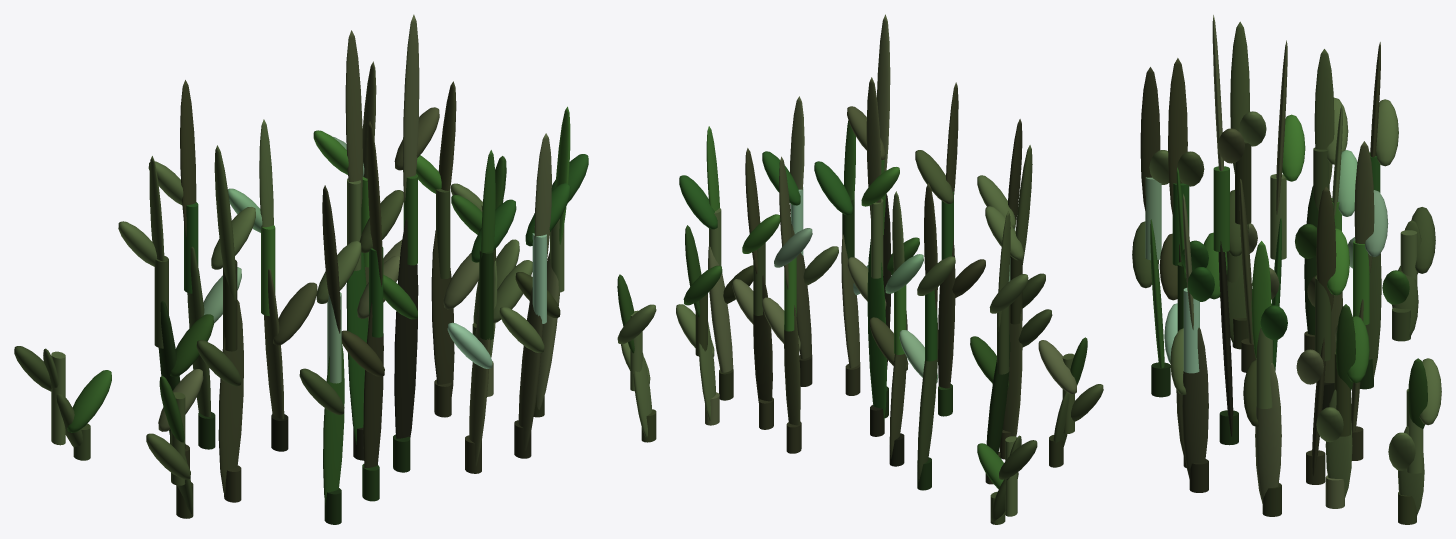
Rendered from CMU3DRMCBushi4.glb.
3 views of the same model, side by side, from view 1: azimuth 30°, elevation 25°; view 2: azimuth 150°, elevation 25°; view 3: azimuth 270°, elevation 25° (orthographic). The views are drawn at different scales.
Parts seen in each view (by area): view 1: reed 9 lower blade, reed 3 lower blade, reed 12 lower blade, reed 9 tapered tip, reed 8 tapered tip, reed 8 lower blade, reed 7 lower blade, reed 5 lower blade, reed 13 lower blade, reed 3 tapered tip, reed 6 lower blade, reed 4 tapered tip (+55 smaller); view 2: reed 8 lower blade, reed 7 lower blade, reed 15 lower blade, reed 12 lower blade, reed 4 lower blade, reed 3 lower blade, reed 11 lower blade, reed 10 lower blade, reed 9 tapered tip, reed 8 tapered tip, reed 2 lower blade, reed 13 lower blade (+56 smaller); view 3: reed 13 lower blade, reed 15 lower blade, reed 7 tapered tip, reed 5 tapered tip, reed 10 tapered tip, reed 2 tapered tip, reed 3 tapered tip, reed 12 tapered tip, reed 15 tapered tip, reed 9 slender blade rib, reed 9 lower blade, reed 4 lower blade (+72 smaller).
Boxes of the visible parts, bbox=[...] form: reed 9 lower blade: bbox=[394, 218, 418, 438]; reed 3 lower blade: bbox=[218, 300, 243, 493]; reed 12 lower blade: bbox=[431, 229, 454, 396]; reed 9 tapered tip: bbox=[403, 14, 419, 204]; reed 8 tapered tip: bbox=[345, 30, 362, 206]; reed 8 lower blade: bbox=[346, 252, 368, 444]; reed 7 lower blade: bbox=[363, 302, 383, 467]; reed 5 lower blade: bbox=[323, 340, 344, 504]; reed 13 lower blade: bbox=[518, 287, 543, 450]; reed 3 tapered tip: bbox=[214, 145, 236, 300]; reed 6 lower blade: bbox=[264, 268, 284, 419]; reed 4 tapered tip: bbox=[180, 80, 196, 238]; reed 8 lower blade: bbox=[867, 239, 886, 421]; reed 7 lower blade: bbox=[938, 239, 955, 388]; reed 15 lower blade: bbox=[708, 245, 733, 372]; reed 12 lower blade: bbox=[753, 275, 772, 402]; reed 4 lower blade: bbox=[917, 318, 938, 481]; reed 3 lower blade: bbox=[1002, 305, 1022, 436]; reed 11 lower blade: bbox=[841, 234, 860, 368]; reed 10 lower blade: bbox=[784, 305, 800, 425]; reed 9 tapered tip: bbox=[877, 14, 890, 171]; reed 8 tapered tip: bbox=[866, 77, 881, 217]; reed 2 lower blade: bbox=[986, 330, 1010, 476]; reed 13 lower blade: bbox=[791, 224, 812, 359]; reed 13 lower blade: bbox=[1182, 327, 1208, 478]; reed 15 lower blade: bbox=[1255, 363, 1281, 503]; reed 7 tapered tip: bbox=[1168, 58, 1187, 217]; reed 5 tapered tip: bbox=[1140, 67, 1160, 211]; reed 10 tapered tip: bbox=[1354, 141, 1374, 274]; reed 2 tapered tip: bbox=[1314, 49, 1334, 184]; reed 3 tapered tip: bbox=[1230, 21, 1249, 175]; reed 12 tapered tip: bbox=[1316, 186, 1336, 311]; reed 15 tapered tip: bbox=[1251, 241, 1271, 358]; reed 9 slender blade rib: bbox=[1213, 166, 1229, 251]; reed 9 lower blade: bbox=[1218, 241, 1233, 436]; reed 4 lower blade: bbox=[1365, 253, 1381, 378].
Size of the model in its own units: 0.7751 by 0.6914 by 0.451.
